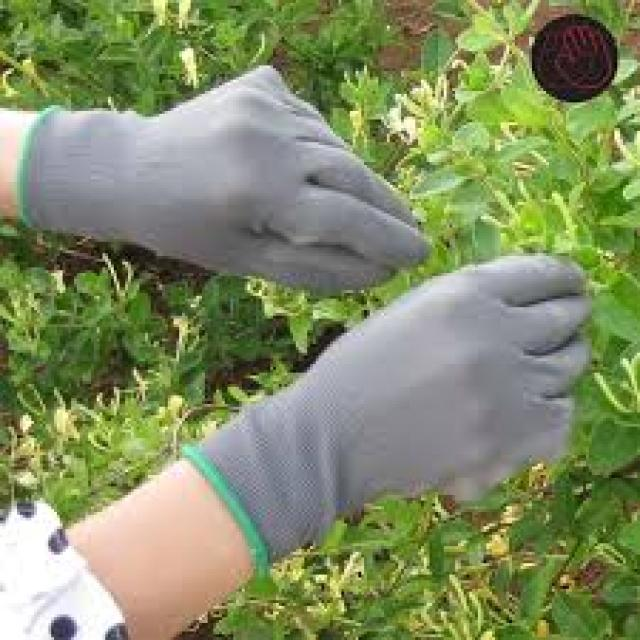Gloves: (200, 255, 590, 566), (0, 68, 428, 292)
